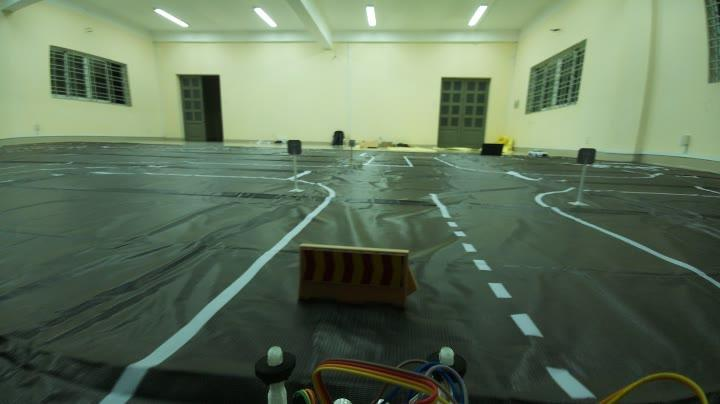roadblock: (292, 239, 413, 322)
